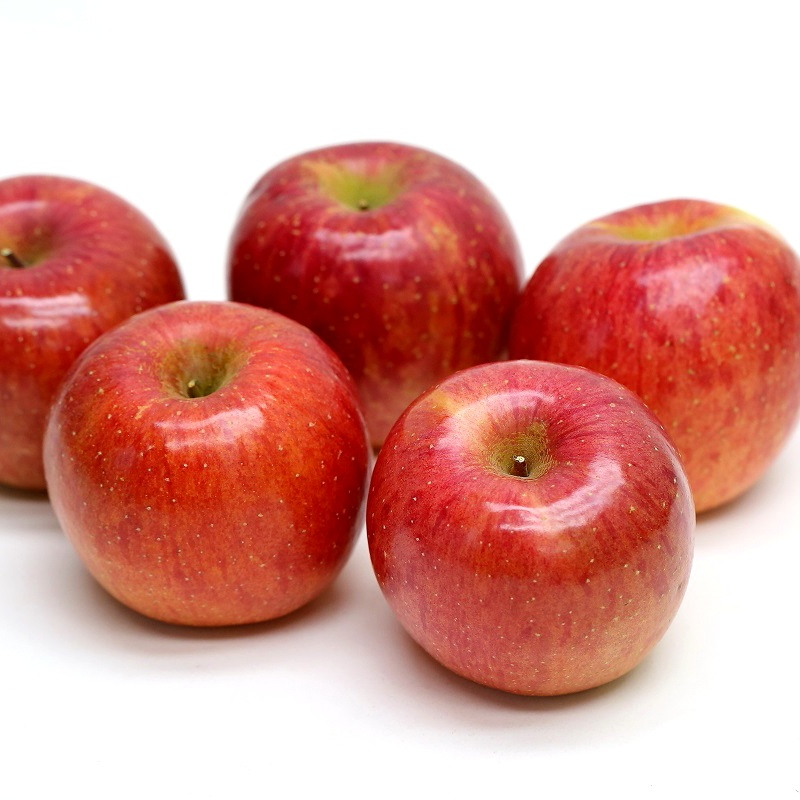apple: (37, 283, 371, 645), (365, 356, 686, 712), (231, 136, 524, 457), (518, 199, 800, 513), (1, 170, 196, 484)
